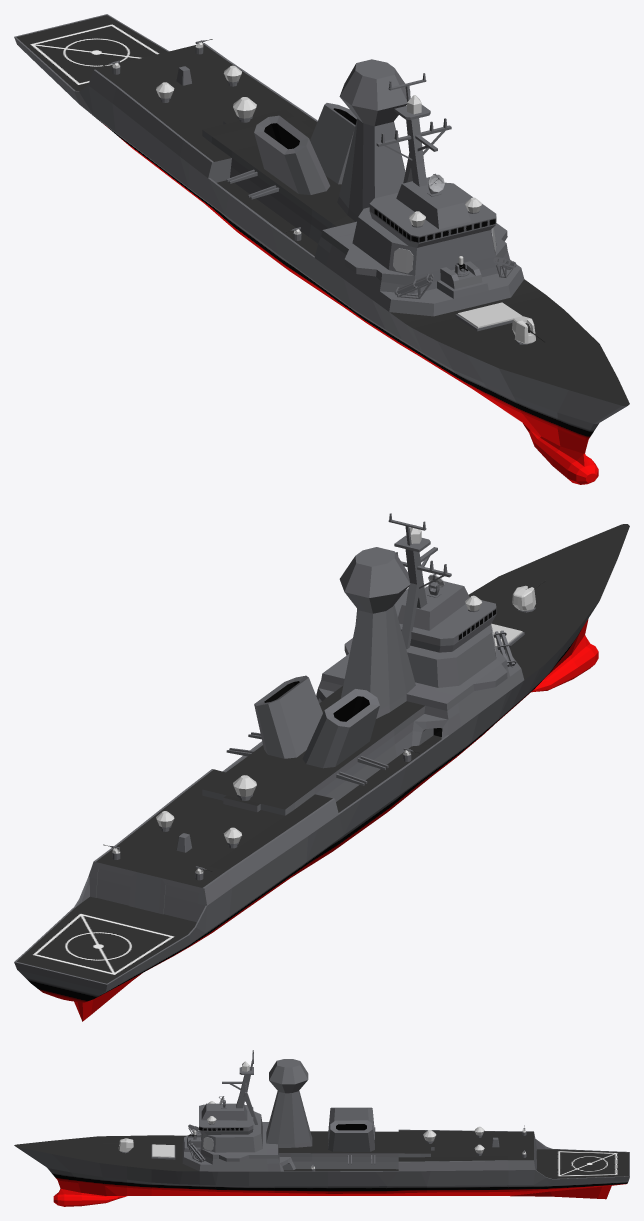
The picture shows the model from 3 angles, top to bottom: view 1: azimuth 30°, elevation 25°; view 2: azimuth 150°, elevation 25°; view 3: azimuth 270°, elevation 25°; orthographic projection. The views are drawn at different scales.
Visible parts, largest first — view 1: Cube.015; view 2: Cube.015, Cube.018, Cube.019; view 3: Cube.015.
Boxes of the visible parts, left/top/right/bottom form: Cube.015: left=14, top=14, right=629, bottom=484; Cube.015: left=14, top=513, right=629, bottom=1021; Cube.018: left=96, top=866, right=131, bottom=905; Cube.019: left=163, top=883, right=198, bottom=921; Cube.015: left=14, top=1050, right=629, bottom=1206.
Bounding box in the file's own units: 2272 × 3982 × 14776.
